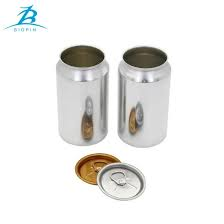can: (54, 45, 114, 147), (117, 44, 173, 151), (74, 152, 148, 202)
